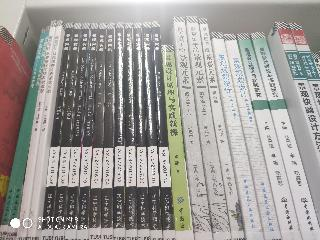book-spine: (245, 31, 320, 240), (232, 32, 301, 240), (221, 32, 281, 240), (206, 31, 264, 240), (181, 16, 231, 240), (196, 17, 244, 240), (167, 16, 212, 240), (0, 27, 45, 239), (8, 26, 49, 240), (19, 19, 56, 239), (156, 44, 193, 240), (28, 20, 61, 239), (42, 22, 73, 240), (273, 18, 320, 161), (147, 21, 175, 239), (54, 23, 81, 240), (140, 22, 162, 239), (66, 23, 88, 239), (78, 23, 98, 239), (133, 23, 149, 238), (90, 24, 106, 238), (122, 23, 137, 239), (286, 20, 320, 113), (103, 24, 114, 239), (115, 23, 125, 239)
